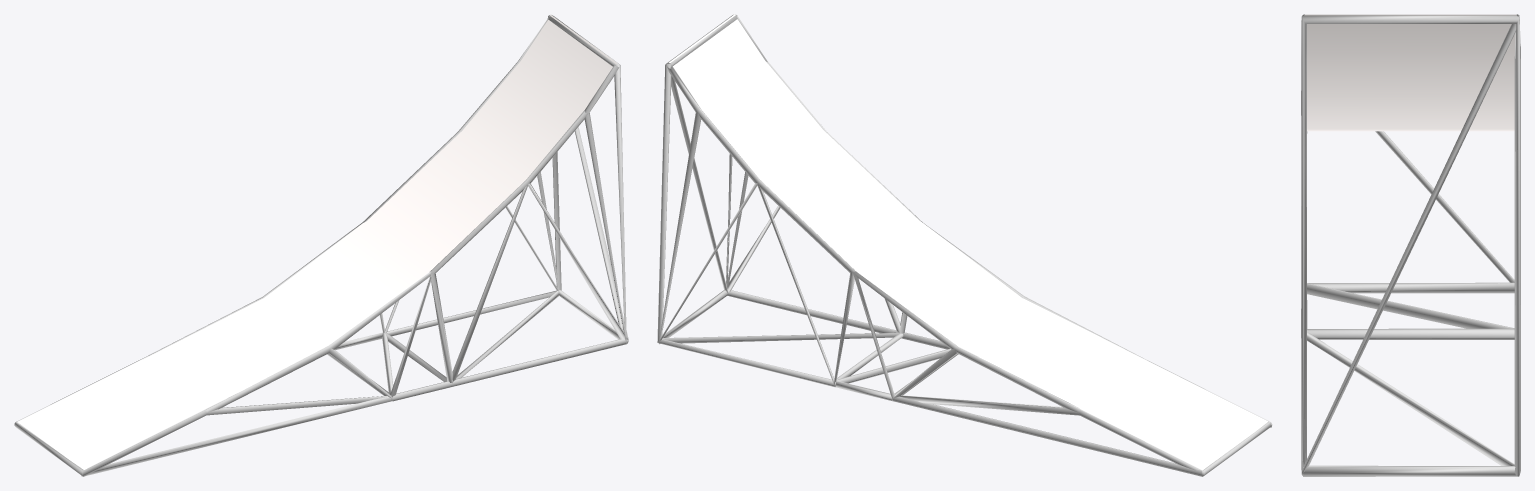
File: DirtBikeTrackJumpRampLight.glb
The picture shows the model from 3 angles, left to right: view 1: azimuth 30°, elevation 25°; view 2: azimuth 150°, elevation 25°; view 3: azimuth 270°, elevation 25°; orthographic projection. The views are drawn at different scales.
Visible parts, largest first — view 1: DirtBikeTrackJumpRampLight; view 2: DirtBikeTrackJumpRampLight; view 3: DirtBikeTrackJumpRampLight.
Boxes of the visible parts, left/top/right/bottom form: DirtBikeTrackJumpRampLight: left=14, top=14, right=628, bottom=476; DirtBikeTrackJumpRampLight: left=657, top=14, right=1272, bottom=476; DirtBikeTrackJumpRampLight: left=1301, top=14, right=1520, bottom=476.
Size of the model in its own units: 7.55 by 3.74 by 1.63.
Materials: 1 (1 with a texture image).
